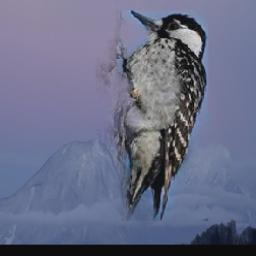Woodpecker: (94, 10, 207, 221)
